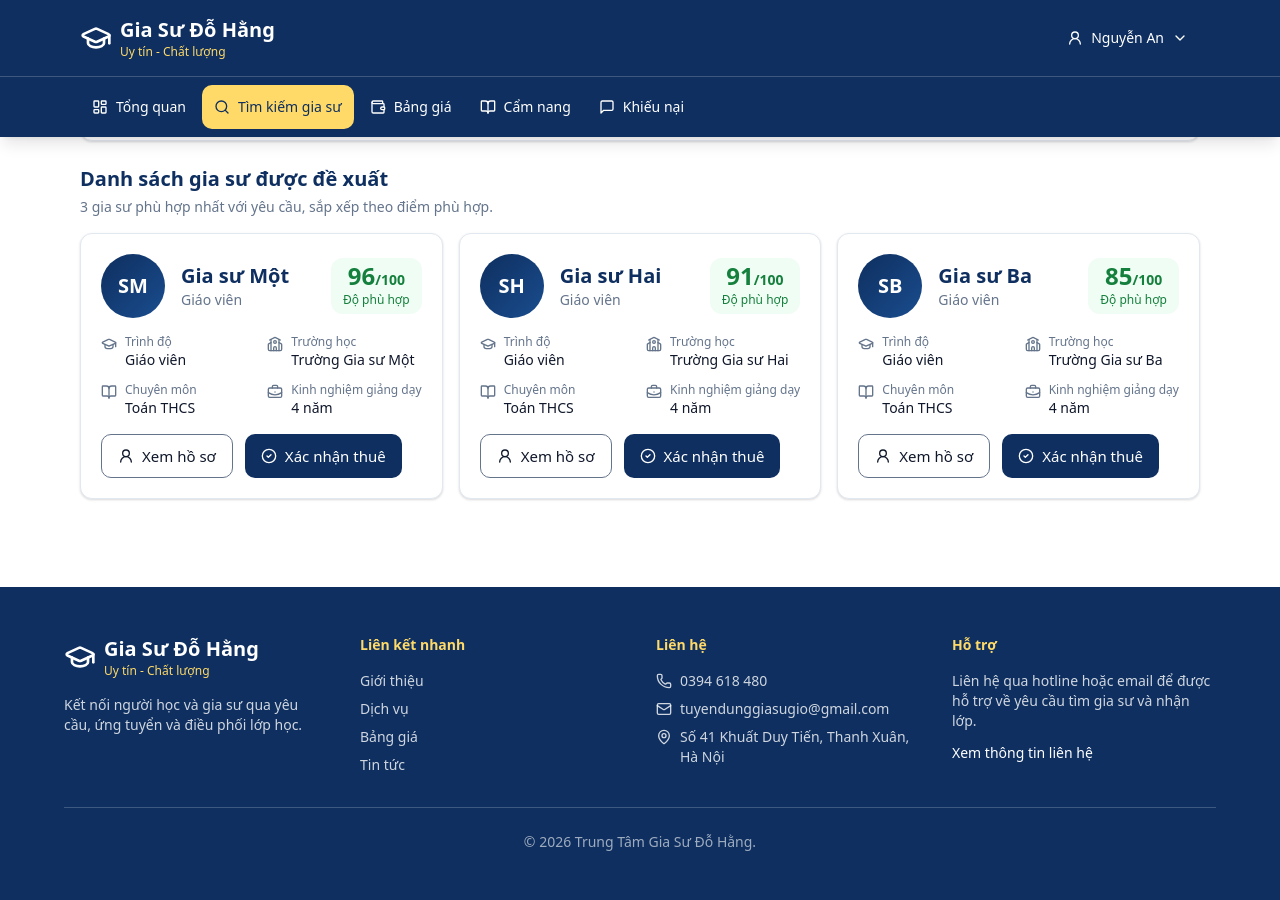
Test: parent requests › lists proposals above 80 by score and hires one only after the dialog
The width and height of the screenshot is (1280, 900).
(page scrolled)
Check: the element named "Điểm phù hợp 91/100" is shown, box [710,258,800,314]
Check: the text "Trường Gia sư Hai" is shown, box [670,350,789,370]
Click the button with aria-label "Xác nhận thuê Gia sư Hai" at (702, 456), box [624,434,780,478]
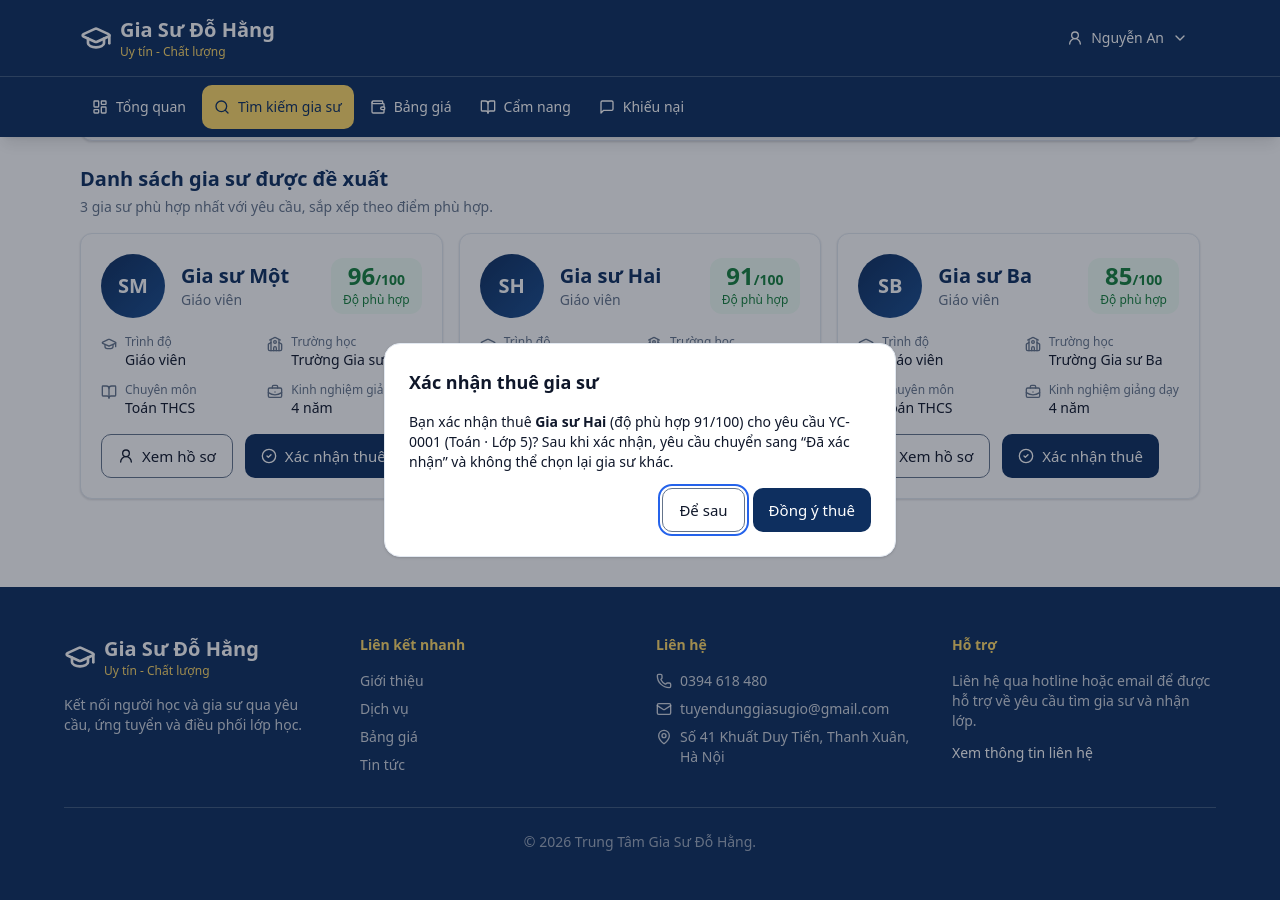
Click the button "Để sau" at (704, 510), box [662,488,745,532]
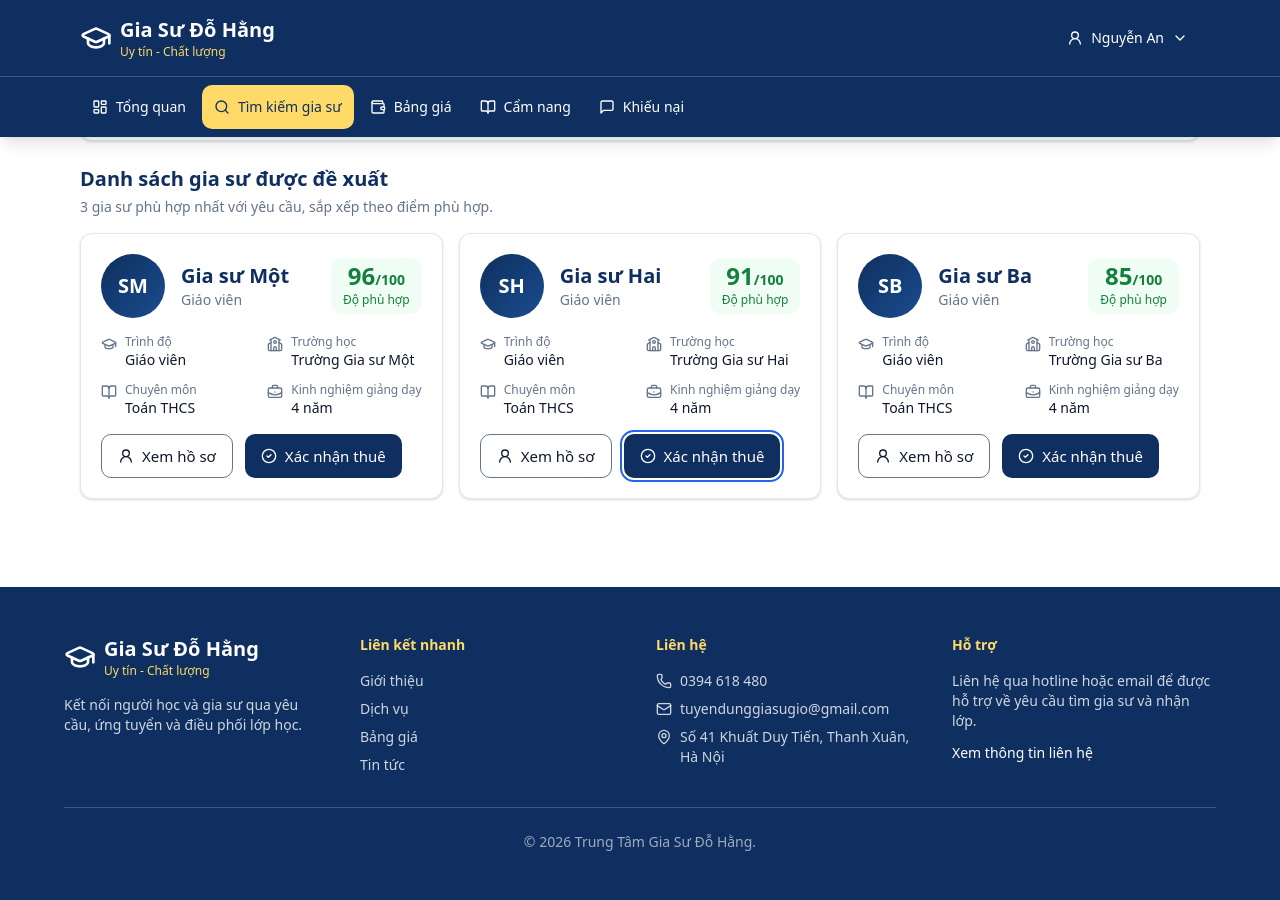
Check: the element "Danh sách gia sư được đề xuất" is shown, box [80,165,1200,499]
Click the button with aria-label "Xác nhận thuê Gia sư Hai" at (702, 456), box [624,434,780,478]
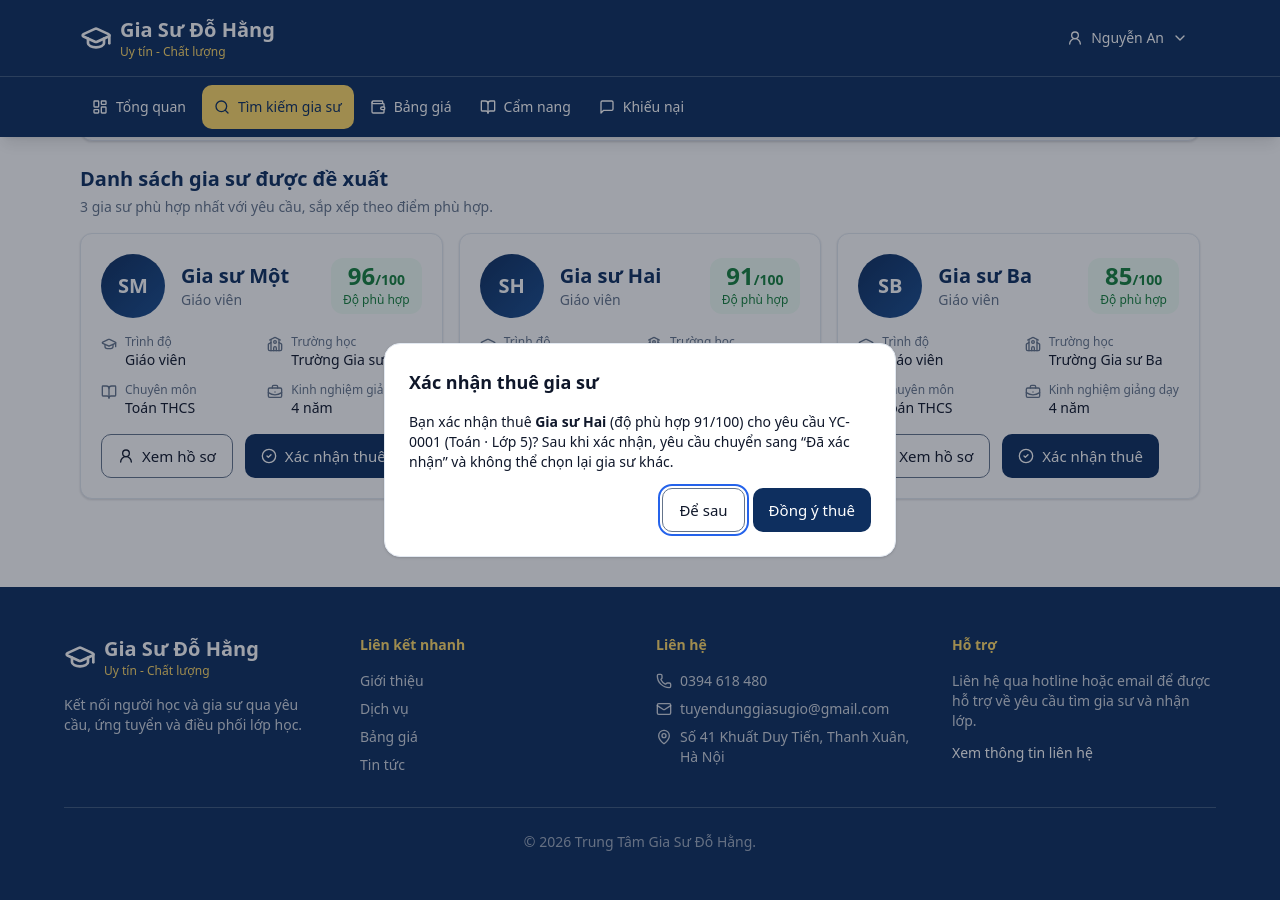
Click the button "Đồng ý thuê" at (812, 510), box [753,488,871,532]
(page scrolled)
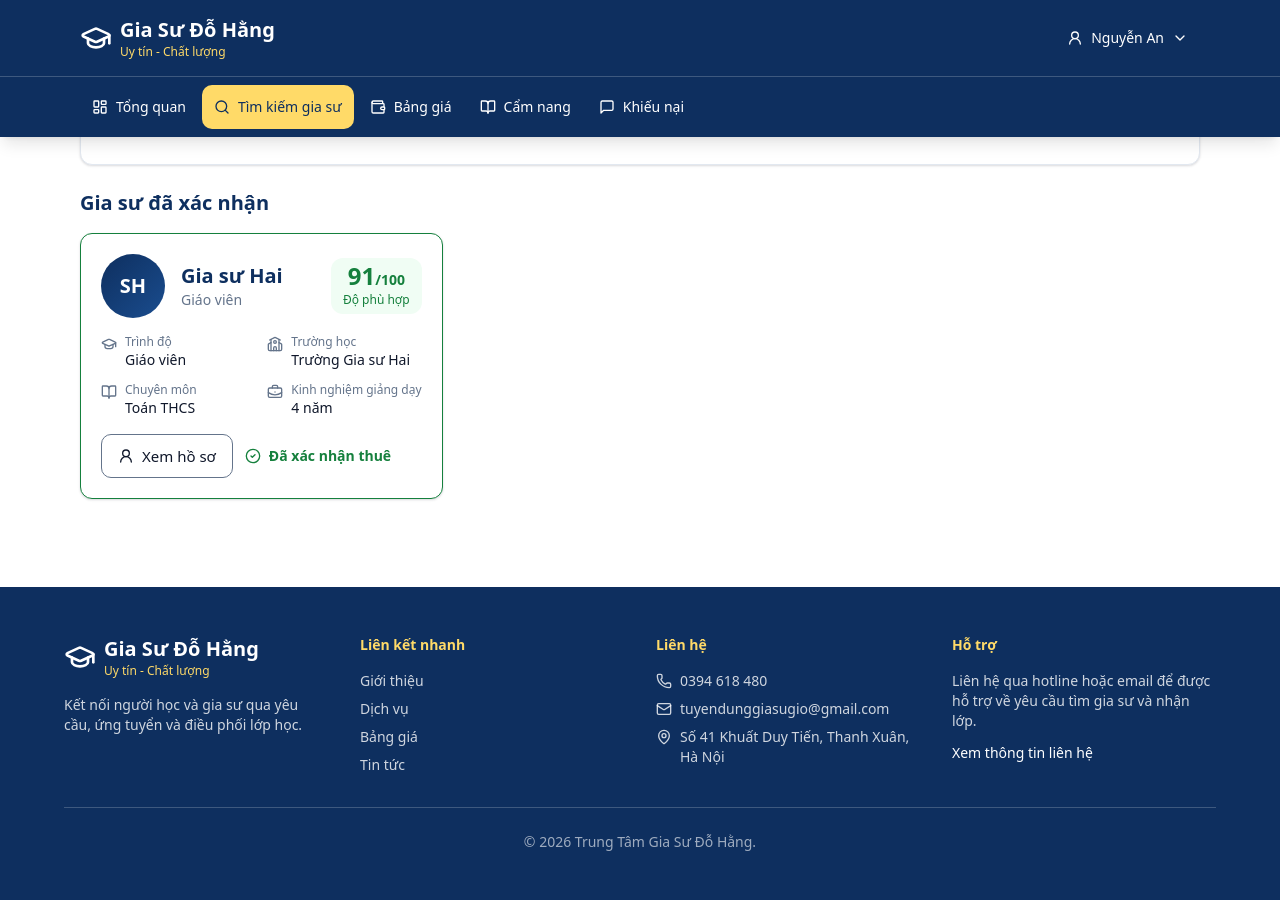
Check: the text "Gia sư Hai" is shown, box [181,262,283,289]
Check: the text "Đã xác nhận thuê" is shown, box [245,446,391,465]
